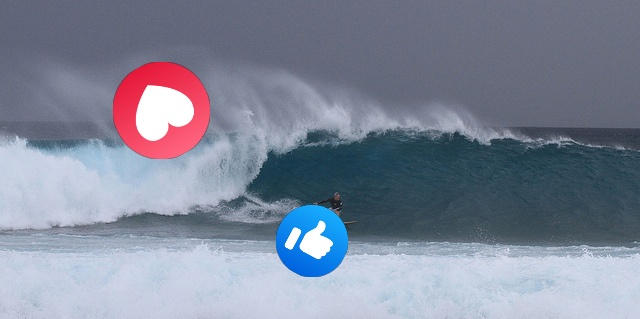like: (276, 205, 348, 277)
love: (113, 62, 210, 159)
